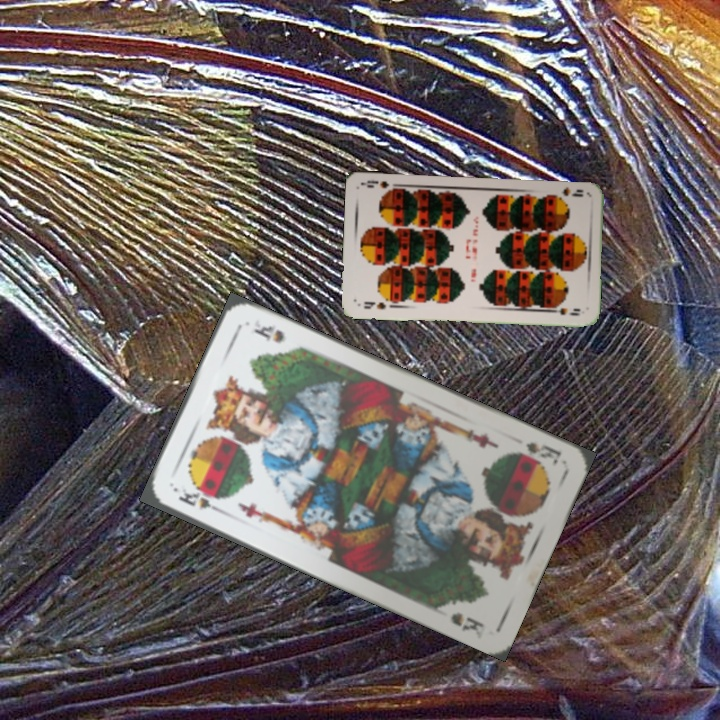S9: (548, 183, 586, 202), (360, 298, 388, 312)
SK: (174, 484, 226, 517), (513, 438, 565, 469)
